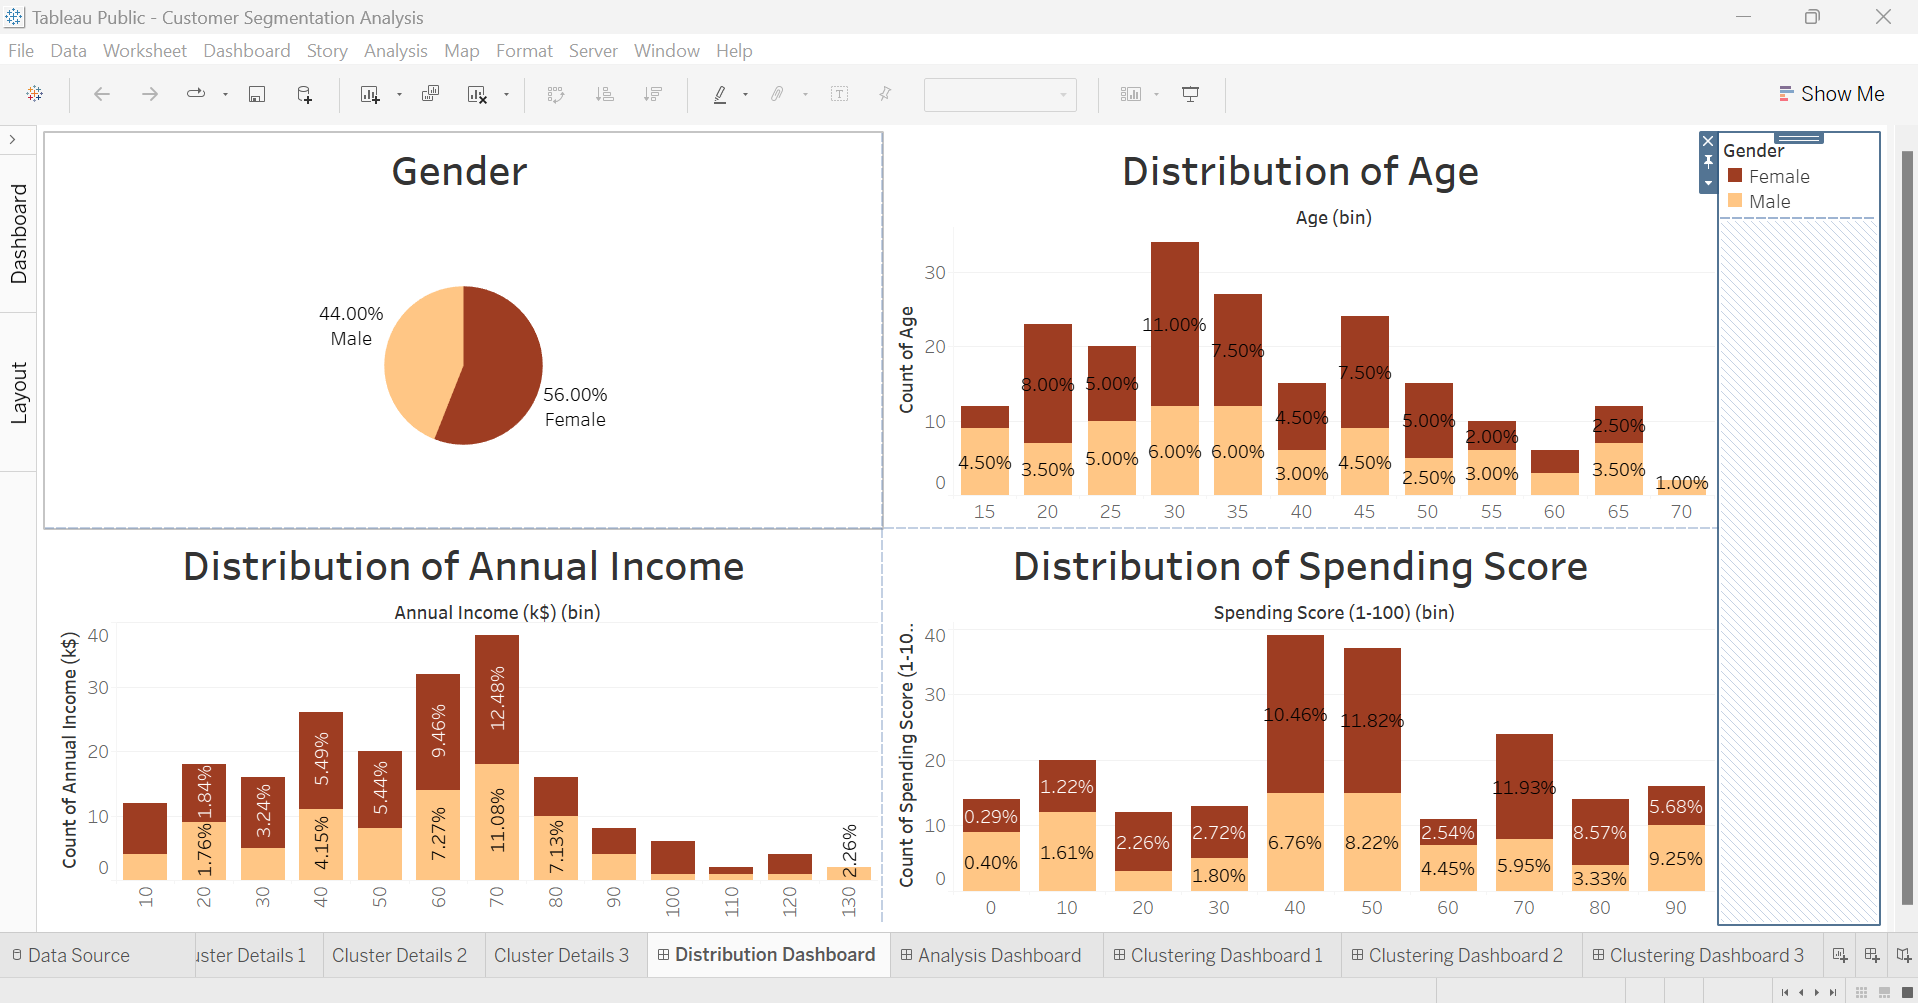

Layout of this report page (visuals, bound fields, positions):
{"tool":"tableau","page":{"name":"Distribution Dashboard ","canvas":[1000,1000],"units":"permille","ordinal":4},"visuals":[{"type":"worksheet","title":"Gender ","mark":"Pie","box":[4.3,9.9,452.4,490]},{"type":"worksheet","title":"Age Hist","mark":"Automatic","rows":["Age"],"cols":["Age (bin)"],"box":[456.7,9.9,452.5,490]},{"type":"legend","title":"Gender ","param":"[federated.03849fk1oqn5g5192y5811f0itua].[none:Gender:nk]","box":[909.2,9.9,86.5,104.1]},{"type":"worksheet","title":"Income Hist","mark":"Automatic","rows":["Annual Income (k$)"],"cols":["Annual Income (k$) (bin)"],"box":[4.3,499.9,452.4,490.1]},{"type":"worksheet","title":"Spending Hist","mark":"Automatic","rows":["Spending Score (1-100)"],"cols":["Spending Score (1-100) (bin)"],"box":[456.7,499.9,452.5,490.1]}]}

Visuals, with their boxes on the dashboard's canvas, which has no fixed pixel size, in thousandths of its width and height (x1, y1, x2, y2). These are canvas units, not pixel positions in the 1918x1003 screenshot, which may show the page scaled, cropped or inside an application window:
"Gender " worksheet (Pie marks): BBox(4, 10, 457, 500)
"Age Hist" worksheet: BBox(457, 10, 909, 500)
"Gender " legend: BBox(909, 10, 996, 114)
"Income Hist" worksheet: BBox(4, 500, 457, 990)
"Spending Hist" worksheet: BBox(457, 500, 909, 990)
